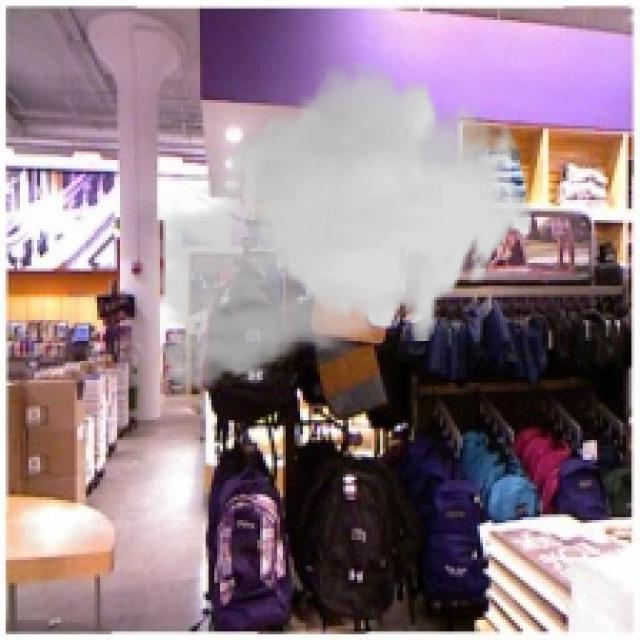Smoke: (137, 63, 534, 406)
